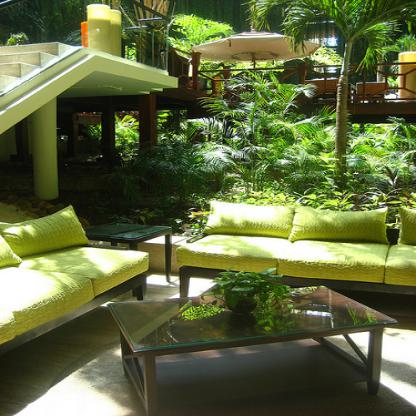pottedplant: (200, 269, 298, 318)
sofa: (175, 200, 415, 295), (0, 204, 151, 353)
